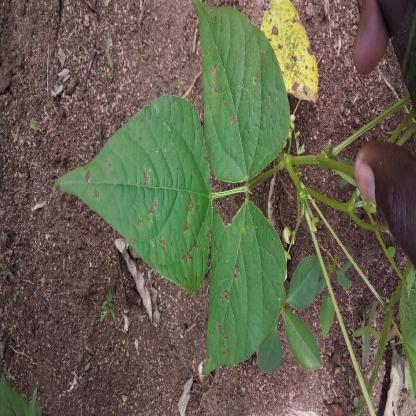Beans_Angular_LeafSpot: (50, 82, 212, 298), (201, 12, 284, 163), (202, 225, 282, 371)
